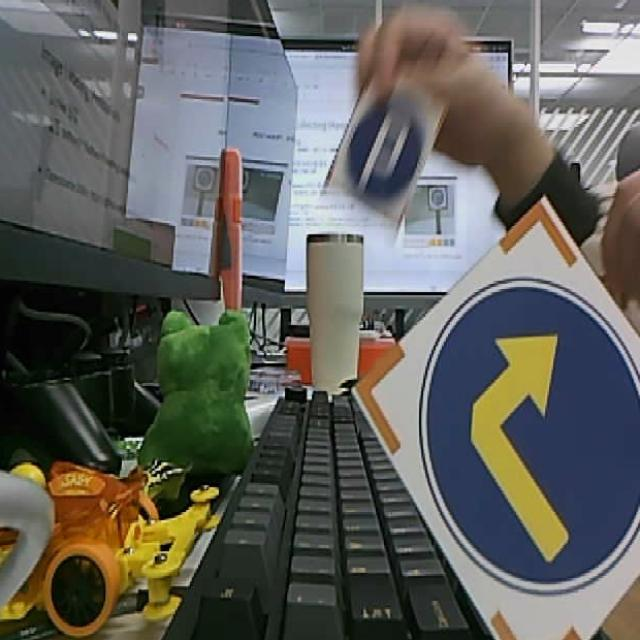parking: (331, 64, 447, 231)
turn: (349, 201, 640, 640)
